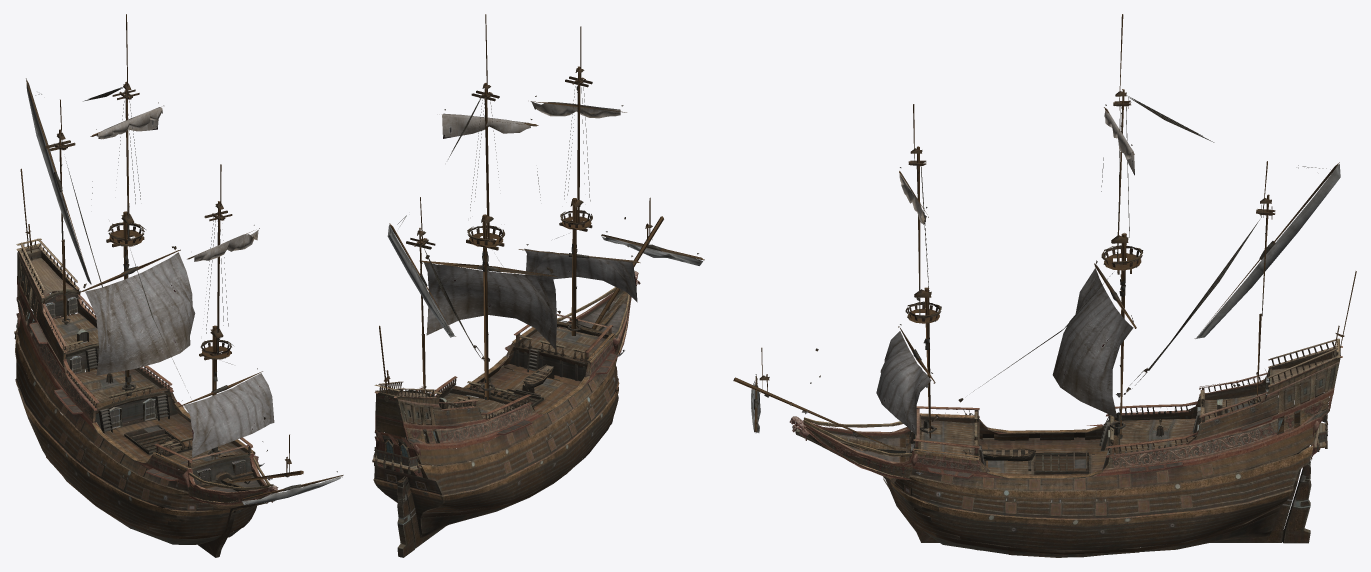
Rendered from dutch_ship_large_02.glb.
3 views of the same model, side by side, from view 1: azimuth 30°, elevation 25°; view 2: azimuth 150°, elevation 25°; view 3: azimuth 270°, elevation 25° (orthographic). The views are drawn at different scales.
Visible parts, largest first — view 1: dutch_ship_large_02; view 2: dutch_ship_large_02; view 3: dutch_ship_large_02.
Part boxes in pixels (<box>): dutch_ship_large_02: <box>14,14,343,557</box>; dutch_ship_large_02: <box>372,14,704,557</box>; dutch_ship_large_02: <box>733,14,1356,557</box>.
Size of the model in its own units: 8.53 by 31.93 by 34.2.
Materials: 3 (3 with a texture image).
